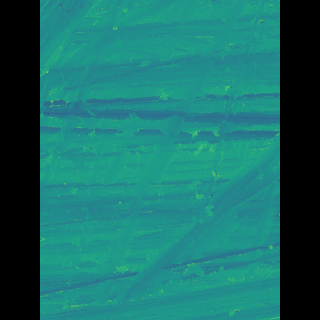Loch: (73, 33, 194, 185)
